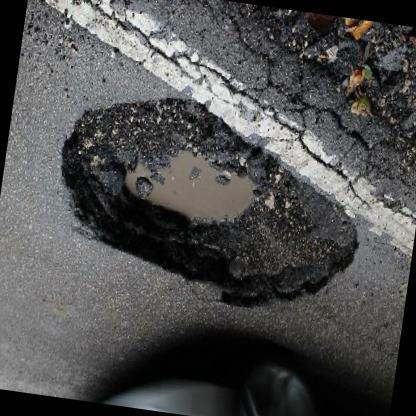pothole: (65, 94, 359, 310), (226, 3, 416, 192)
